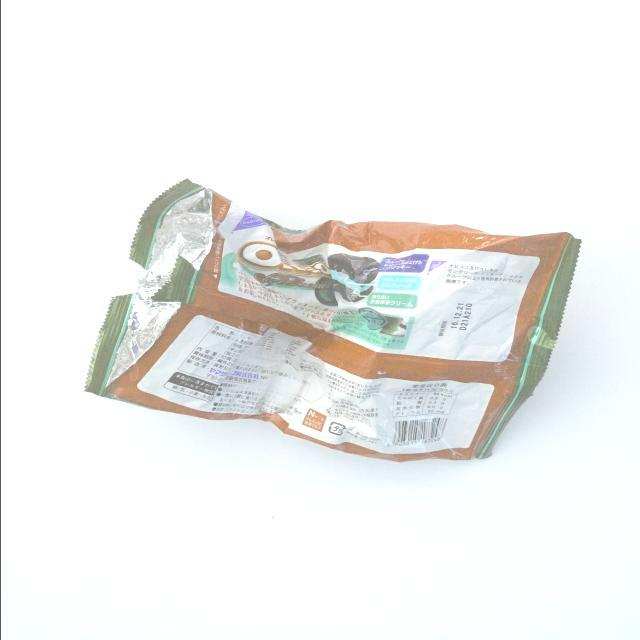plastic: (81, 172, 599, 488)
